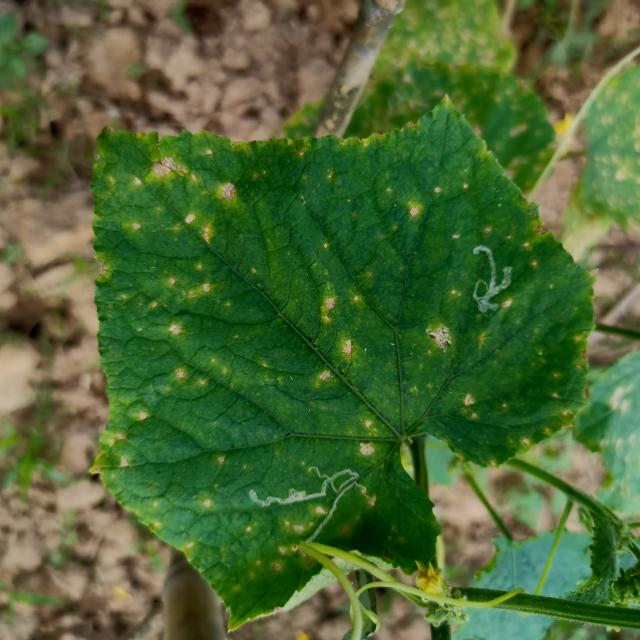disease_cucumber: (25, 109, 274, 489), (401, 162, 566, 416), (175, 407, 398, 592), (294, 272, 377, 389)
